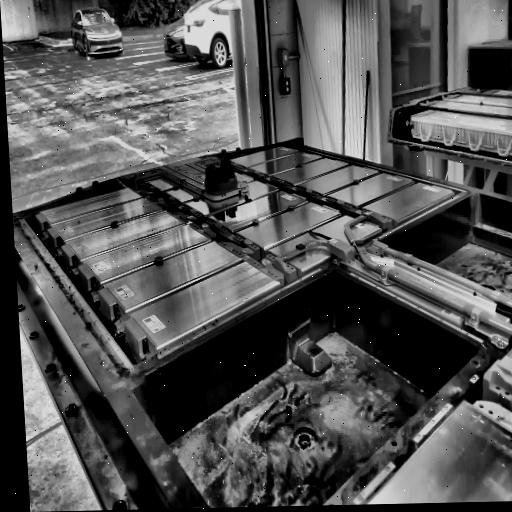battery_module: (129, 263, 277, 350), (103, 242, 238, 313), (85, 223, 205, 283)
busbar: (284, 207, 512, 336), (117, 168, 304, 287), (361, 236, 512, 311), (473, 341, 512, 433)
